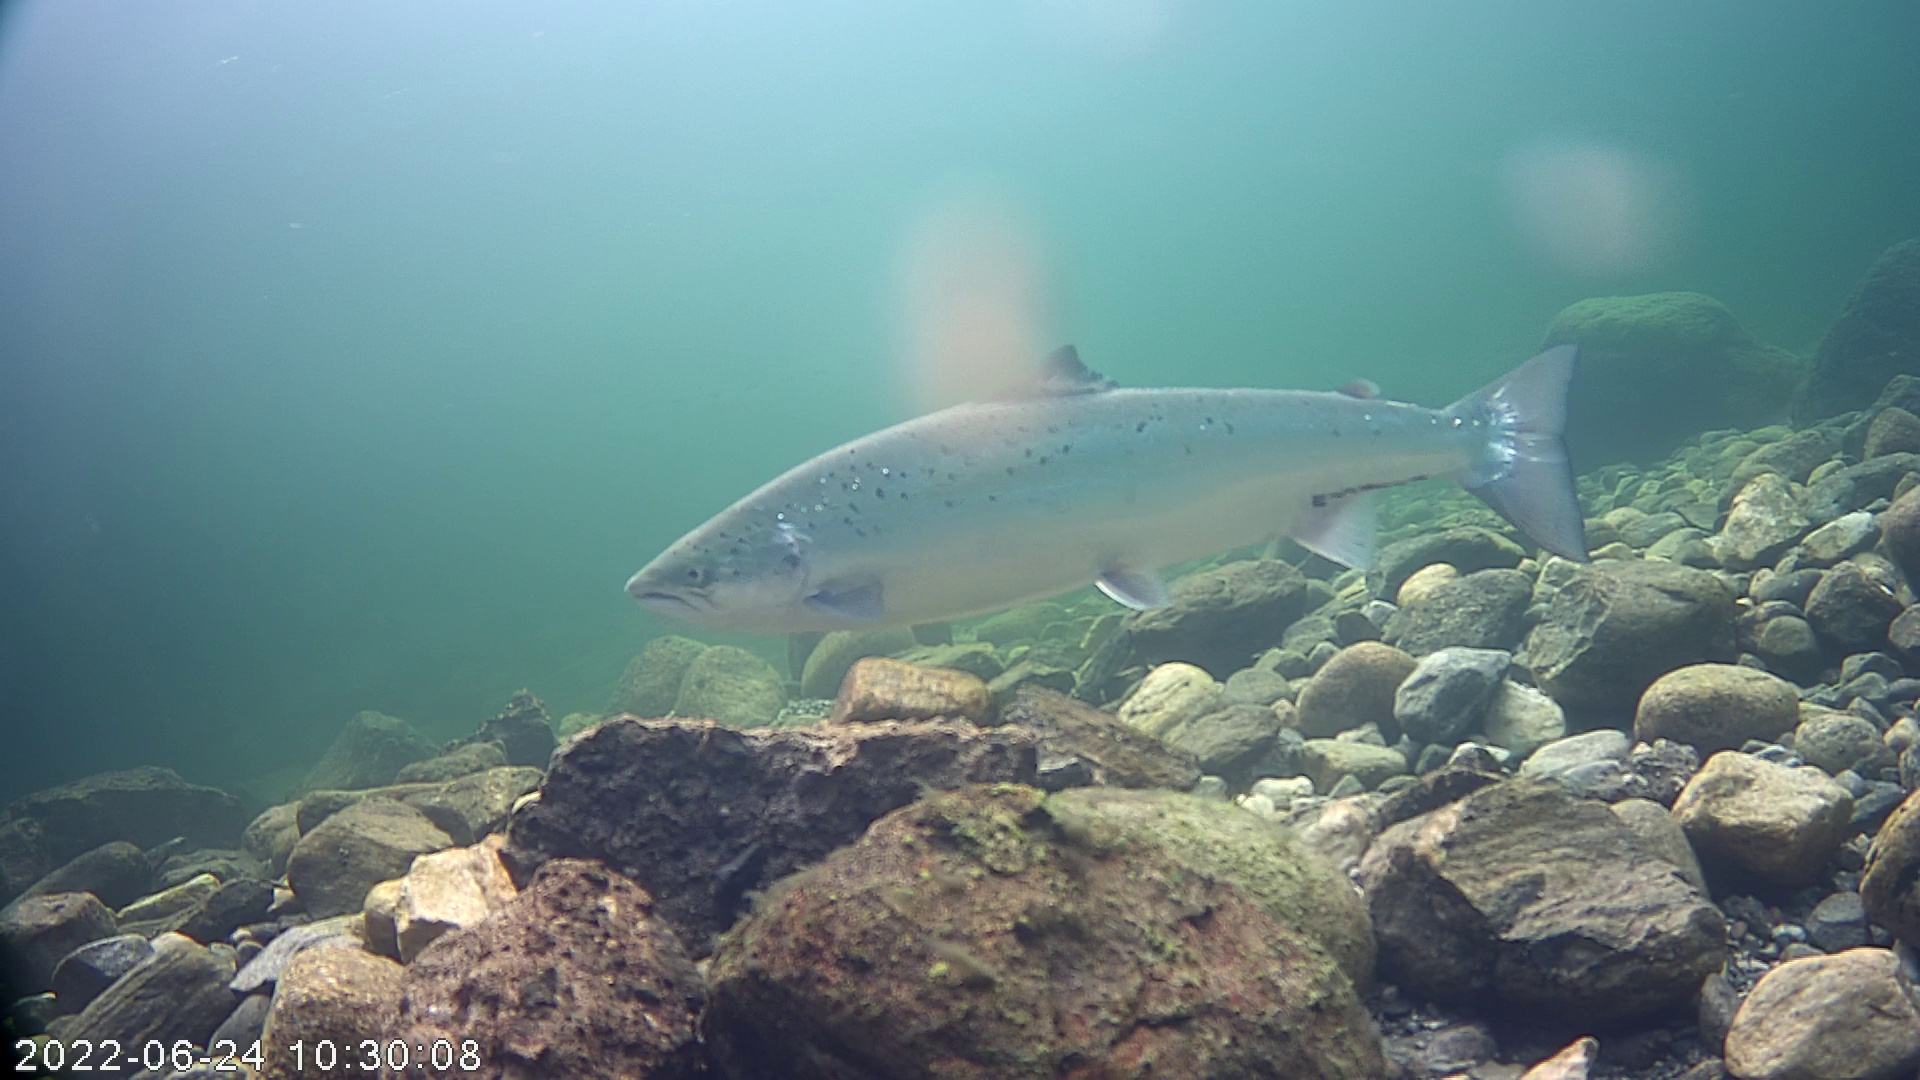salmon: (622, 338, 1592, 638)
